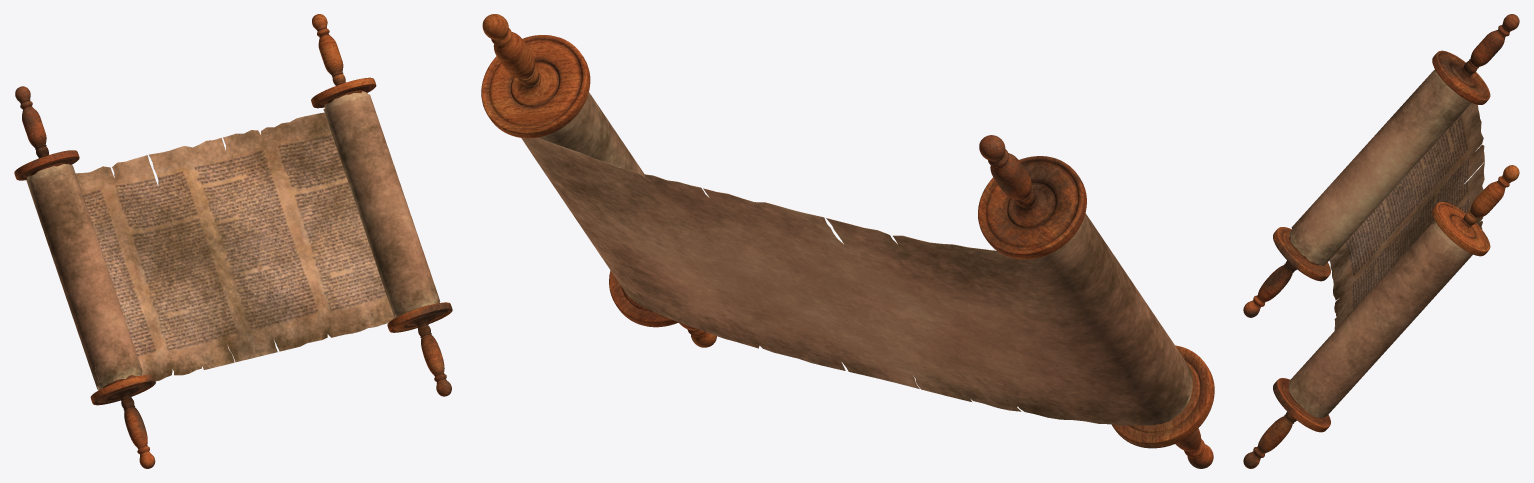
Rendered from torah.glb.
3 renders of one model, left to right at view 1: azimuth 30°, elevation 25°; view 2: azimuth 150°, elevation 25°; view 3: azimuth 270°, elevation 25°, orthographic. The views are drawn at different scales.
Parts seen in each view (by area): view 1: Object_8, Object_4; view 2: Object_8, Object_4; view 3: Object_8, Object_4.
Boxes of the visible parts, x1,y1,x2,y2 form: Object_8: (26,91,440,390); Object_4: (14,14,452,468); Object_8: (521,92,1192,425); Object_4: (481,14,1214,468); Object_8: (1288,69,1484,418); Object_4: (1243,14,1519,468).
Bounding box in the file's own units: 7.95 × 6.2 × 5.13.
Materials: 2 (2 with a texture image).
